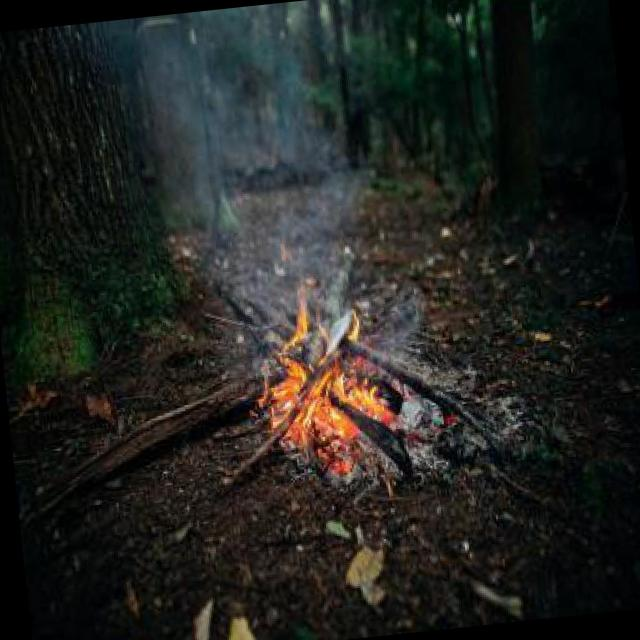Fire: (259, 302, 383, 469)
